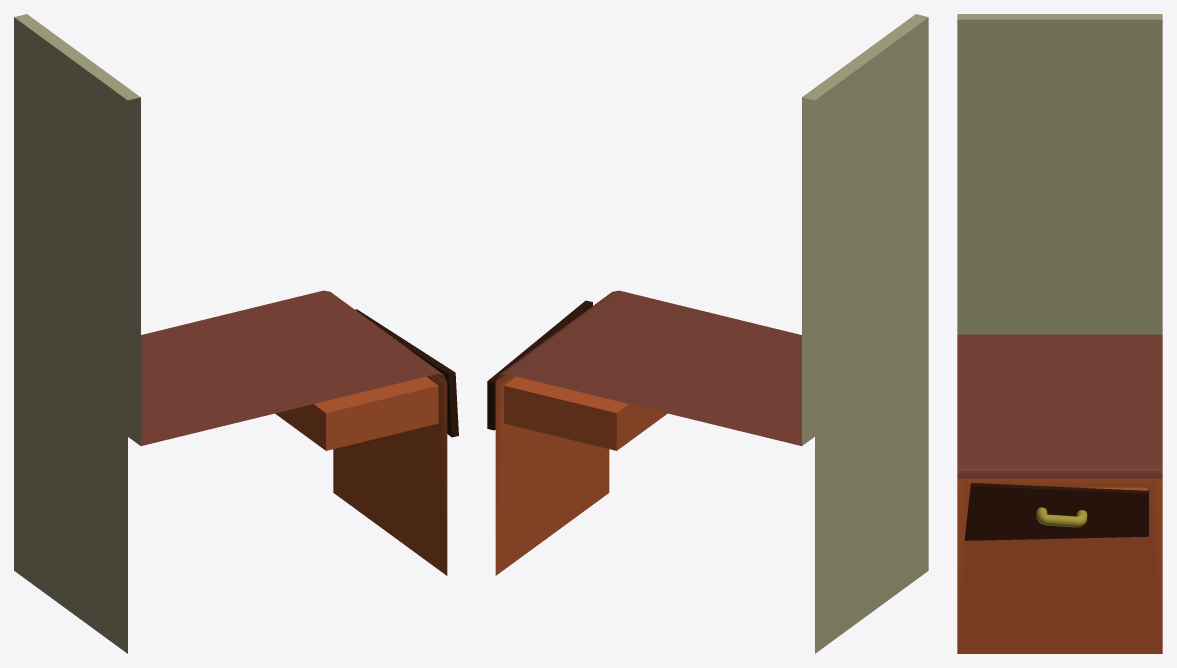
File: CounterSet_Closedrawer_01.fbx
3 renders of one model, left to right at view 1: azimuth 30°, elevation 25°; view 2: azimuth 150°, elevation 25°; view 3: azimuth 270°, elevation 25°, orthographic. The views are drawn at different scales.
Visible parts, largest first — view 1: polySurface46, polySurface44; view 2: polySurface46, polySurface44; view 3: polySurface46, polySurface44.
Part boxes in pixels (left/top/right/bottom): polySurface46: left=14, top=14, right=447, bottom=653; polySurface44: left=355, top=309, right=458, bottom=437; polySurface46: left=495, top=14, right=928, bottom=653; polySurface44: left=487, top=300, right=618, bottom=449; polySurface46: left=957, top=14, right=1162, bottom=653; polySurface44: left=965, top=483, right=1148, bottom=540.
Size of the model in its own units: 3906 by 5808 by 2166.
